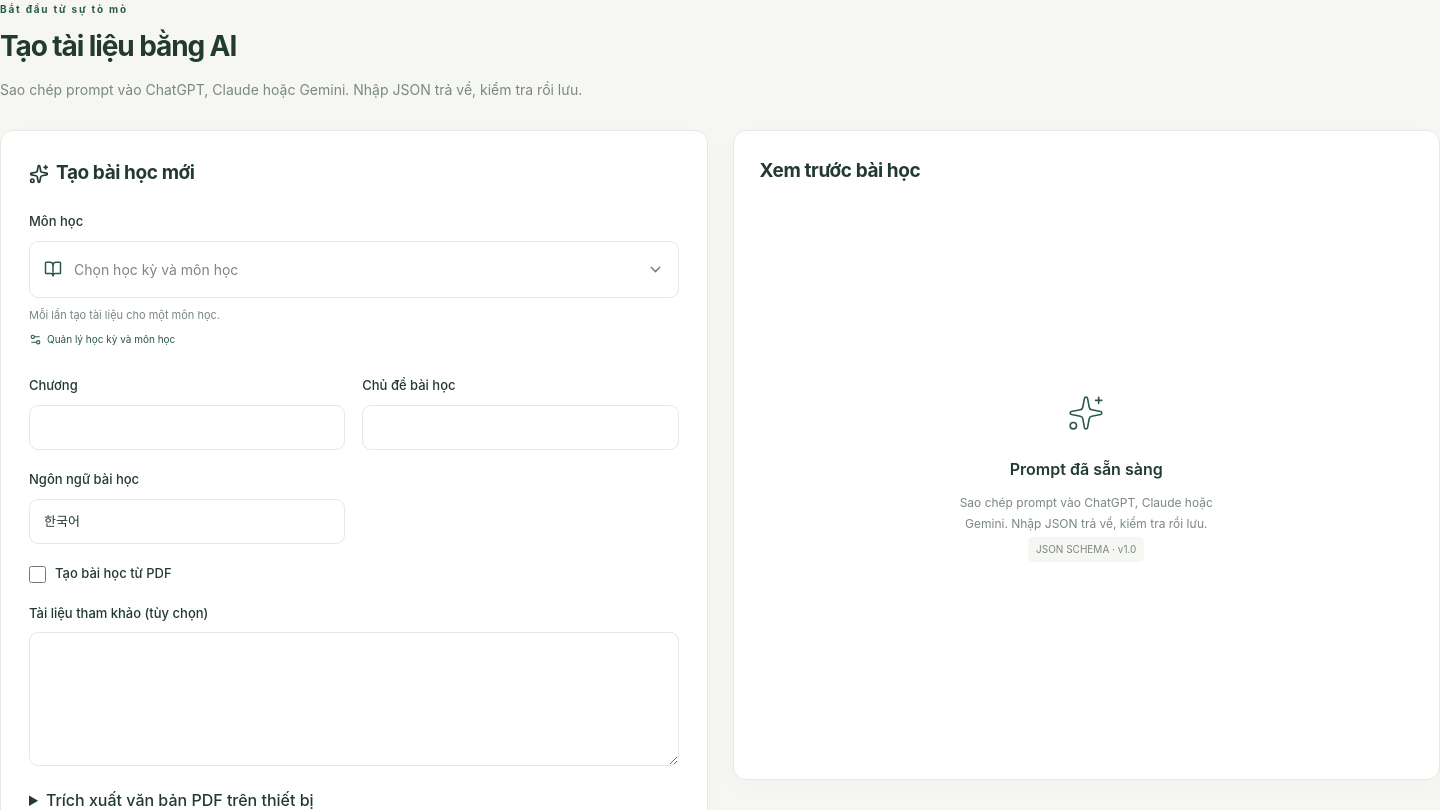
edits and persists the account's curriculum, and loads it on a later visit
Later steps or results of the test are not shown.
Click the button "Quản lý học kỳ và môn học".
click(102, 340)  # box [29,330,175,350]
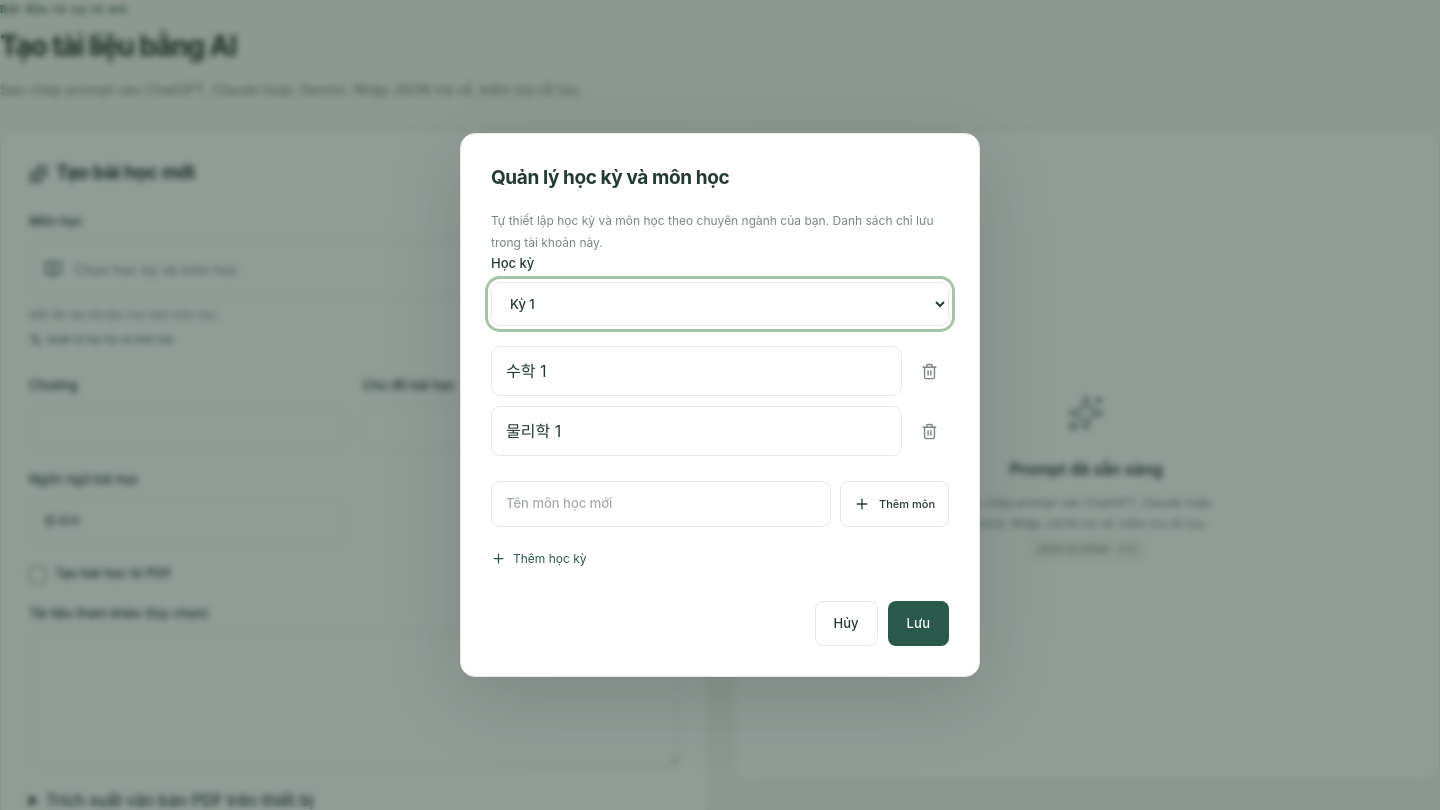
Replace the text in the 1st field named "Tên môn 1" with "수학 A" at point(696, 371), box [491,346,902,396]
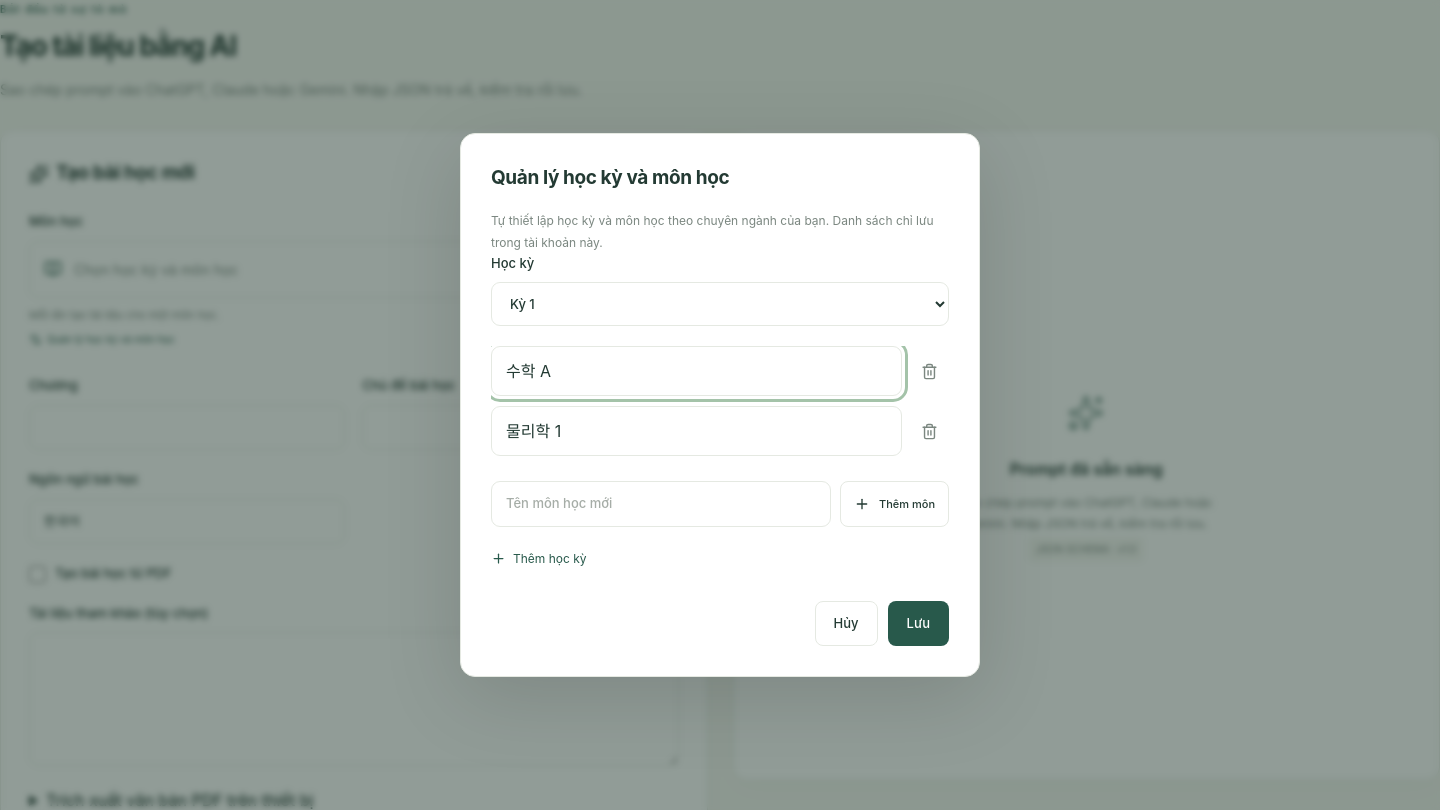
Click the button named "Xóa môn 물리학 1".
click(929, 431)  # box [909,411,949,451]
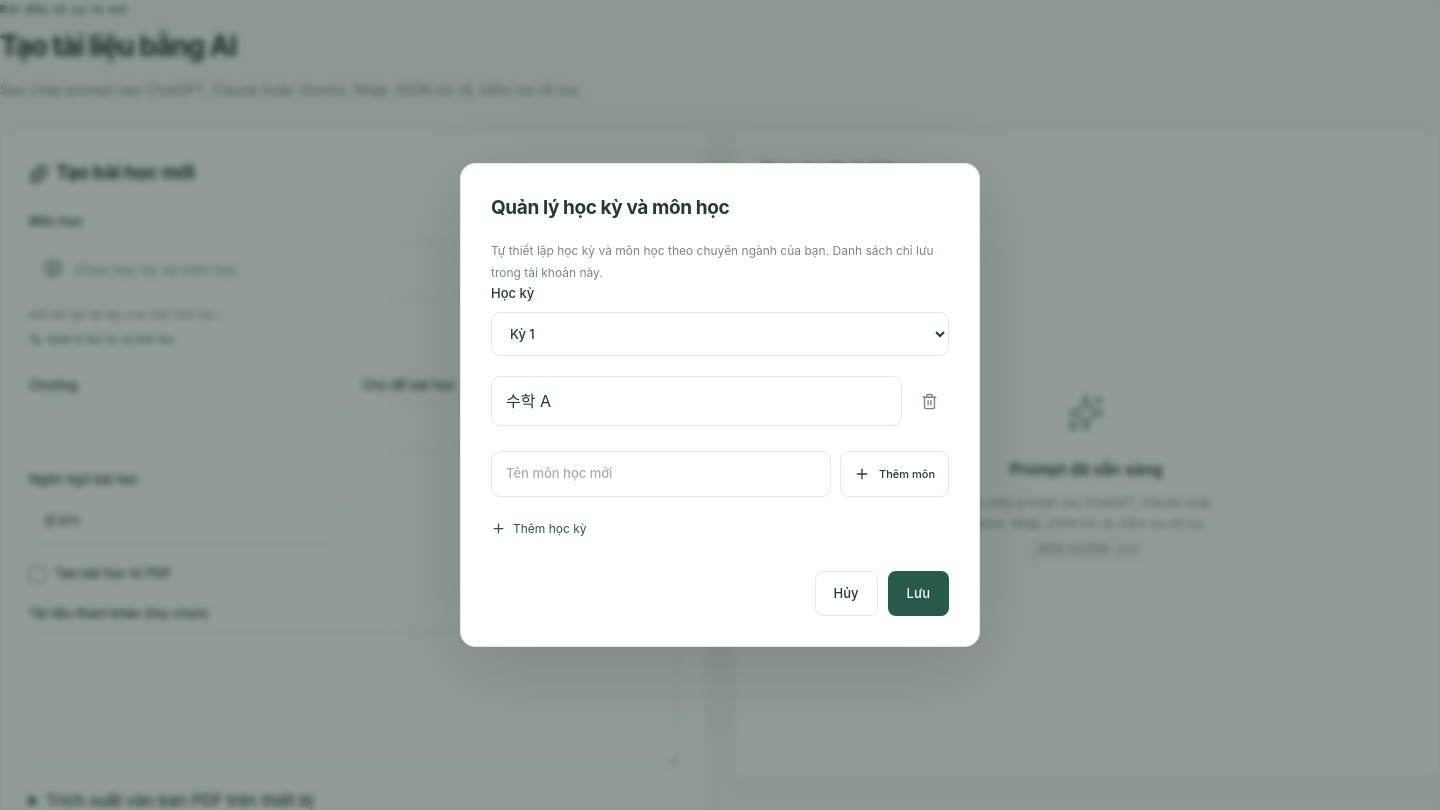
Type "화학 1" into the field labelled "Tên môn học mới".
click(661, 474); type("화학 1")  # box [491,451,831,497]
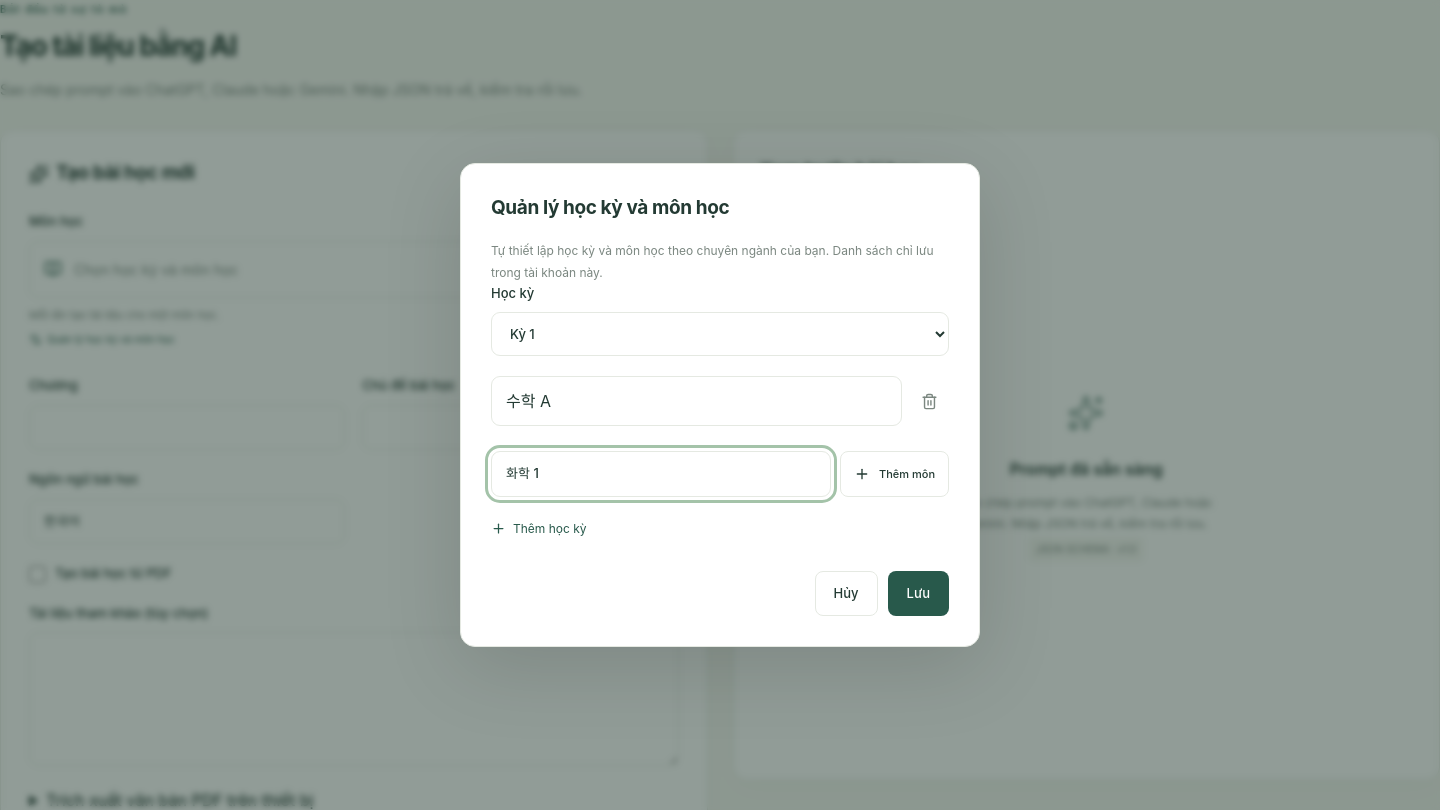
Click the button "Thêm môn".
click(894, 474)  # box [840,451,949,497]
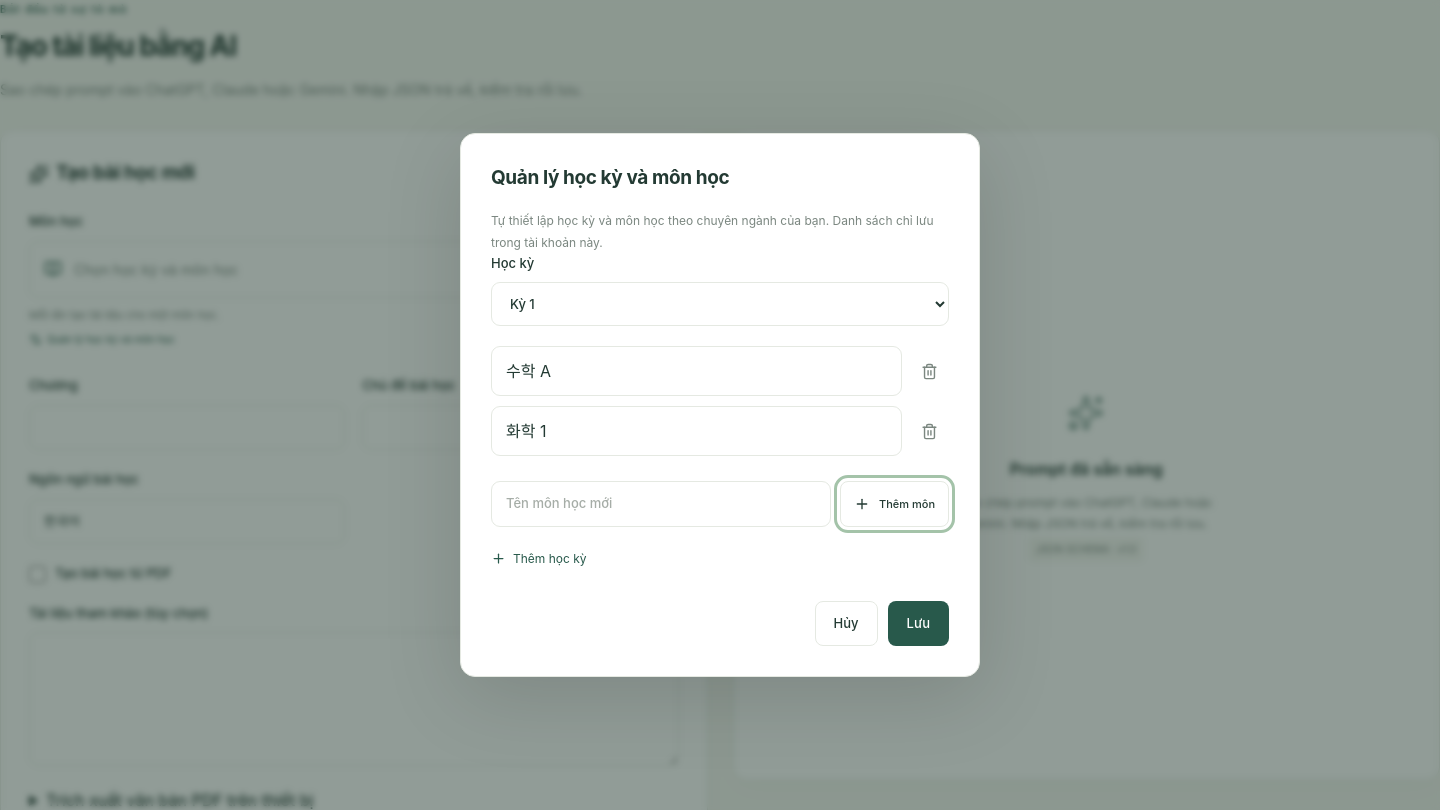
Click the button "Lưu".
click(918, 623)  # box [888,601,949,646]
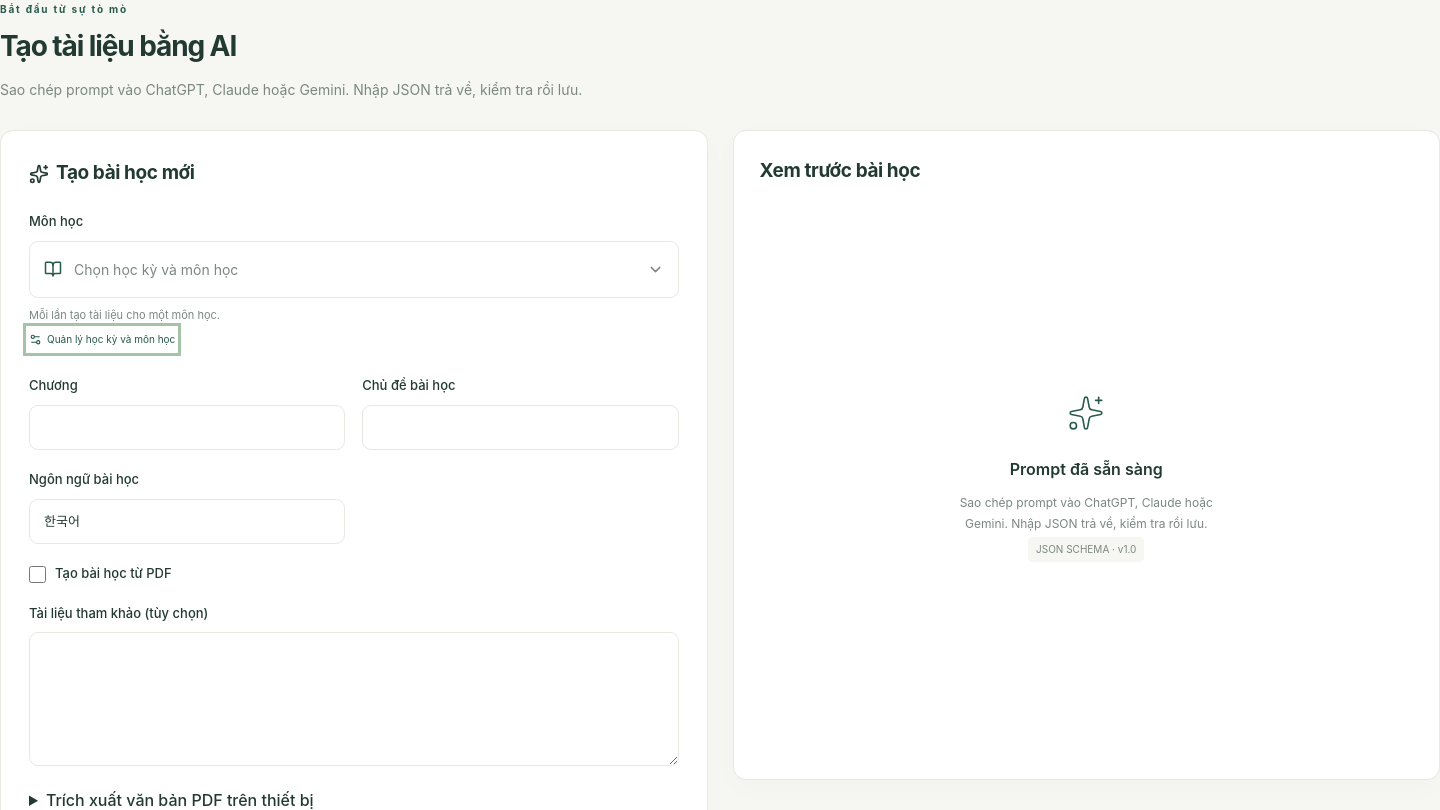
expect the dialog is gone: met
